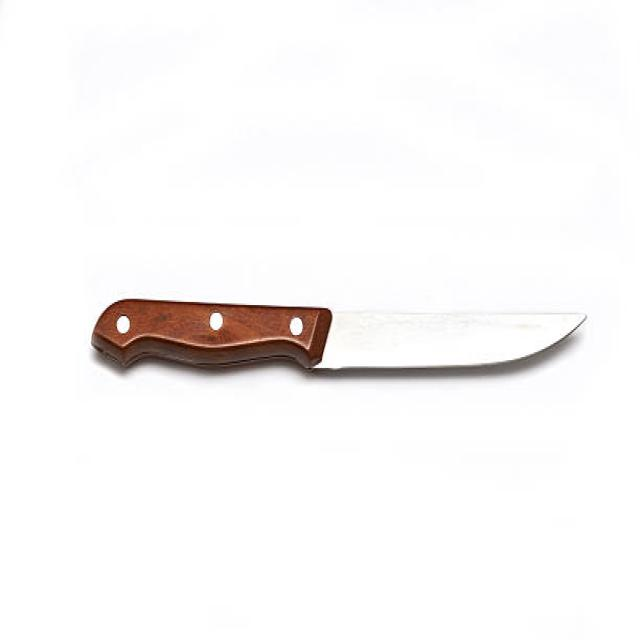knife: (88, 297, 591, 381)
